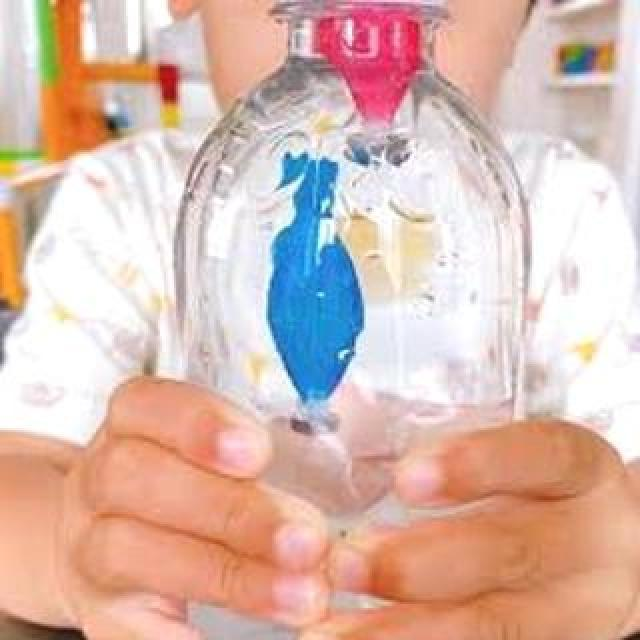Pet_Bottle: (178, 0, 526, 408)
